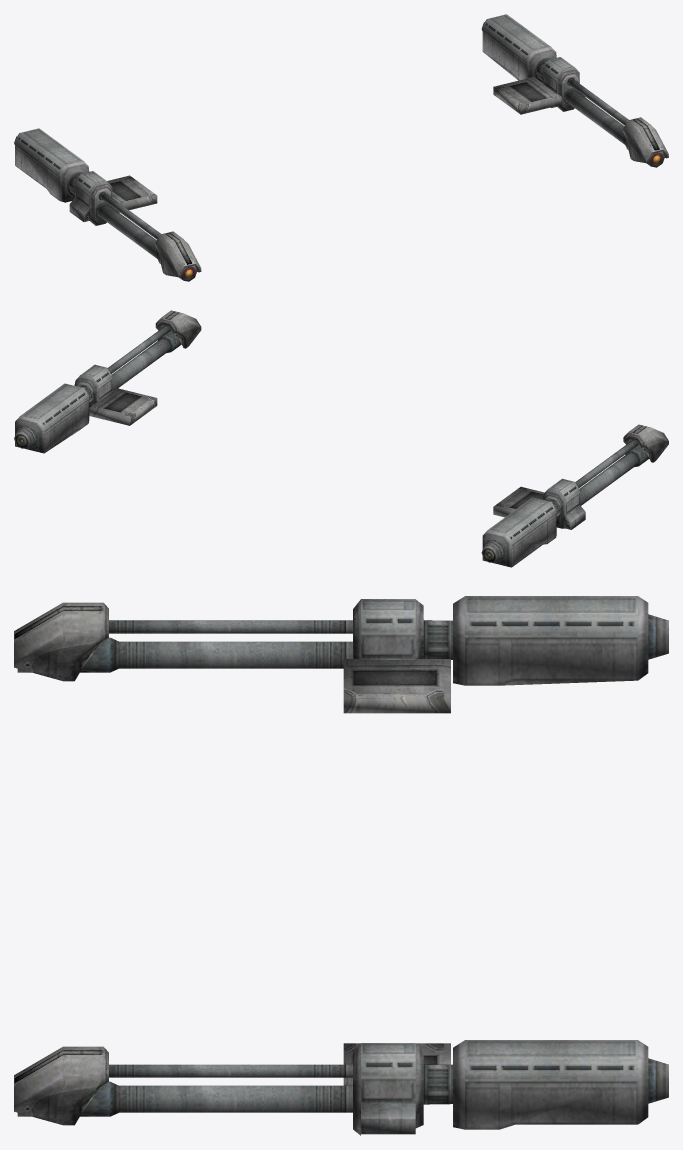
The model's file is awing_weapon_s06_l0.fbx.
3 renders of one model, top to bottom at view 1: azimuth 30°, elevation 25°; view 2: azimuth 150°, elevation 25°; view 3: azimuth 270°, elevation 25°, orthographic. The views are drawn at different scales.
Parts seen in each view (by area): view 1: mesh_node; view 2: mesh_node; view 3: mesh_node.
Boxes of the visible parts, left/top/right/bottom form: mesh_node: left=14, top=14, right=668, bottom=281; mesh_node: left=14, top=310, right=668, bottom=567; mesh_node: left=14, top=596, right=668, bottom=1135.
Size of the model in its own units: 9.39 by 0.7542 by 5.45.
